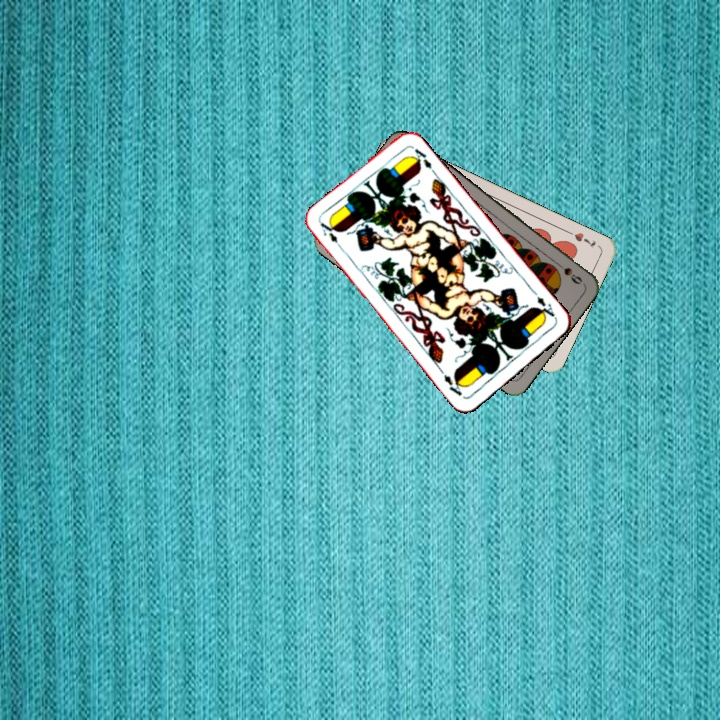EA: (316, 218, 345, 253), (532, 292, 558, 321)
H7: (563, 227, 598, 250)
S9: (550, 257, 585, 287)
